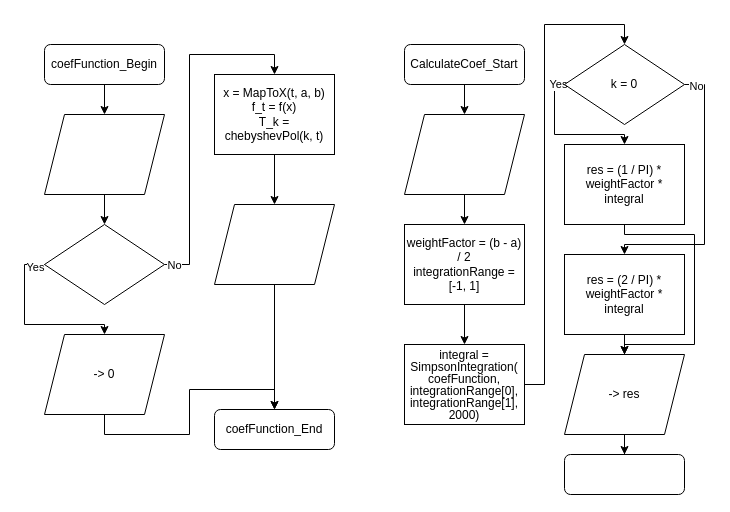
Image size: 730x512. Some labels were removed from this diagram. Here are the shapes that lost their labels. From the top down, the box of each, then its label:
(44, 114, 164, 194): <- t
(404, 114, 524, 194): <- k, a, b
(44, 224, 164, 304): |t| > 1
(214, 204, 334, 284): -> (f_t * T_k) / / sqrt(1 - t * t)
(564, 454, 684, 494): CalculateCoef_End
